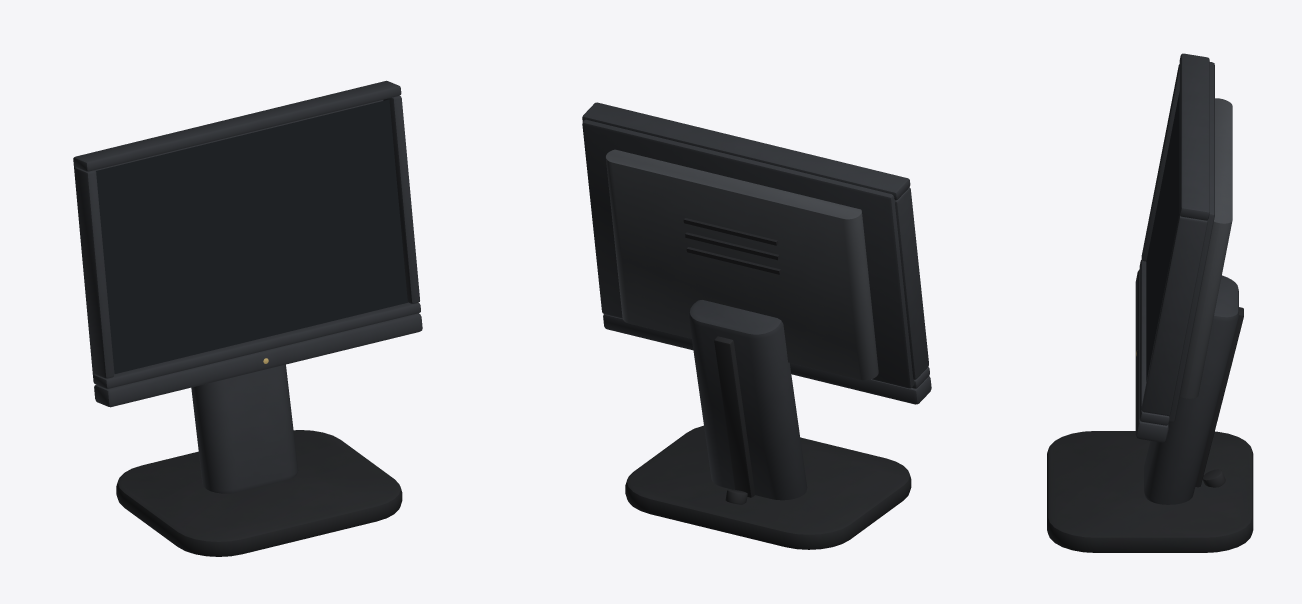
Rendered from pos_monitor.glb.
3 views of the same model, side by side, from view 1: azimuth 30°, elevation 25°; view 2: azimuth 150°, elevation 25°; view 3: azimuth 270°, elevation 25° (orthographic).
Visible parts, largest first — view 1: POS_Screen, POS_Base, POS_Stand, POS_Chin, POS_BezelTop, POS_BezelLeft, POS_BezelBottom, POS_BezelRight, POS_Bezel; view 2: POS_Rear, POS_Base, POS_Bezel, POS_Stand, POS_BezelTop, POS_BezelLeft, POS_CableChannel, POS_Chin; view 3: POS_Base, POS_Stand, POS_BezelRight, POS_Rear, POS_BezelTop, POS_Screen, POS_Bezel, POS_BezelBottom, POS_Chin, POS_BezelLeft, POS_CableChannel, POS_CableGrommet.
Boxes of the visible parts, x1,y1,x2,y2 form: POS_Screen: (96, 99, 407, 373); POS_Base: (116, 430, 402, 556); POS_Stand: (191, 364, 298, 493); POS_Chin: (94, 313, 422, 407); POS_BezelTop: (73, 80, 401, 171); POS_BezelLeft: (74, 167, 113, 378); POS_BezelBottom: (93, 302, 420, 388); POS_BezelRight: (383, 96, 419, 303); POS_Bezel: (73, 100, 383, 375); POS_Rear: (605, 149, 878, 380); POS_Base: (625, 425, 911, 549); POS_Bezel: (582, 119, 914, 388); POS_Stand: (688, 300, 807, 500); POS_BezelTop: (582, 102, 910, 200); POS_BezelLeft: (895, 187, 928, 379); POS_CableChannel: (714, 336, 755, 497); POS_Chin: (603, 314, 931, 404); POS_Base: (1047, 431, 1253, 552); POS_Stand: (1144, 275, 1238, 504); POS_BezelRight: (1141, 215, 1207, 415); POS_Rear: (1180, 98, 1232, 398); POS_BezelTop: (1179, 53, 1209, 220); POS_Screen: (1146, 91, 1179, 381); POS_Bezel: (1169, 62, 1214, 422); POS_BezelBottom: (1139, 259, 1169, 425); POS_Chin: (1135, 269, 1168, 442); POS_BezelLeft: (1141, 64, 1179, 261); POS_CableChannel: (1195, 307, 1243, 487); POS_CableGrommet: (1202, 469, 1225, 487).
Size of the model in its own units: 0.42 by 0.45 by 0.26.
8 materials, 4 textured.
